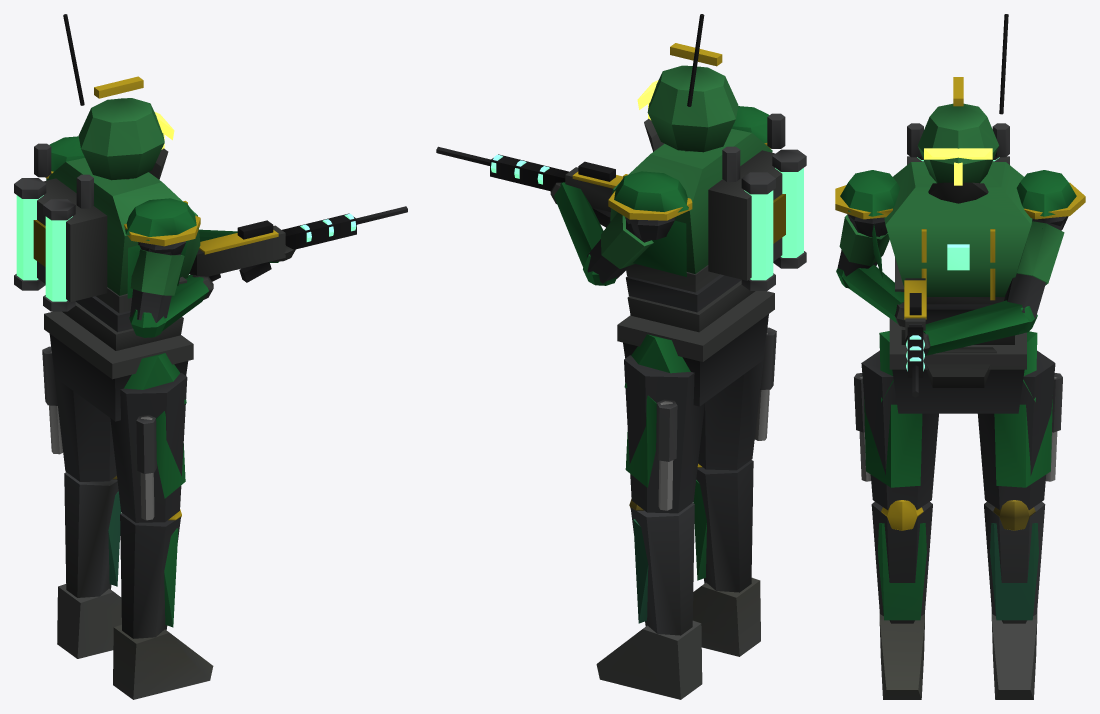
Rendered from u_marine_lod1.glb.
The picture shows the model from 3 angles, left to right: view 1: azimuth 30°, elevation 25°; view 2: azimuth 150°, elevation 25°; view 3: azimuth 270°, elevation 25°; orthographic projection. The views are drawn at different scales.
Visible parts, largest first — view 1: Marine_LOD1_Walls, Marine_LOD1_shL, Marine_LOD1_shR, Marine_LOD1_Details, Marine_LOD1_thL, Marine_LOD1_thR; view 2: Marine_LOD1_Walls, Marine_LOD1_shR, Marine_LOD1_shL, Marine_LOD1_Details, Marine_LOD1_thR, Marine_LOD1_thL; view 3: Marine_LOD1_Walls, Marine_LOD1_shR, Marine_LOD1_shL, Marine_LOD1_thR, Marine_LOD1_thL, Marine_LOD1_Details.
Part boxes in pixels (x1=…): Marine_LOD1_Walls: x1=16, y1=98, x2=407, y2=421; Marine_LOD1_shL: x1=113, y1=509, x2=213, y2=699; Marine_LOD1_shR: x1=57, y1=472, x2=121, y2=658; Marine_LOD1_Details: x1=14, y1=14, x2=356, y2=379; Marine_LOD1_thL: x1=110, y1=373, x2=187, y2=522; Marine_LOD1_thR: x1=42, y1=340, x2=116, y2=481; Marine_LOD1_Walls: x1=436, y1=65, x2=803, y2=406; Marine_LOD1_shR: x1=596, y1=499, x2=702, y2=699; Marine_LOD1_shL: x1=693, y1=460, x2=760, y2=656; Marine_LOD1_Details: x1=491, y1=14, x2=806, y2=361; Marine_LOD1_thR: x1=624, y1=355, x2=704, y2=513; Marine_LOD1_thL: x1=698, y1=321, x2=776, y2=470; Marine_LOD1_Walls: x1=835, y1=103, x2=1085, y2=413; Marine_LOD1_shR: x1=984, y1=500, x2=1045, y2=699; Marine_LOD1_shL: x1=871, y1=500, x2=932, y2=699; Marine_LOD1_thR: x1=978, y1=350, x2=1062, y2=509; Marine_LOD1_thL: x1=854, y1=350, x2=938, y2=510; Marine_LOD1_Details: x1=889, y1=14, x2=1026, y2=371.
Size of the model in its own units: 0.4765 by 0.8285 by 0.2912.
